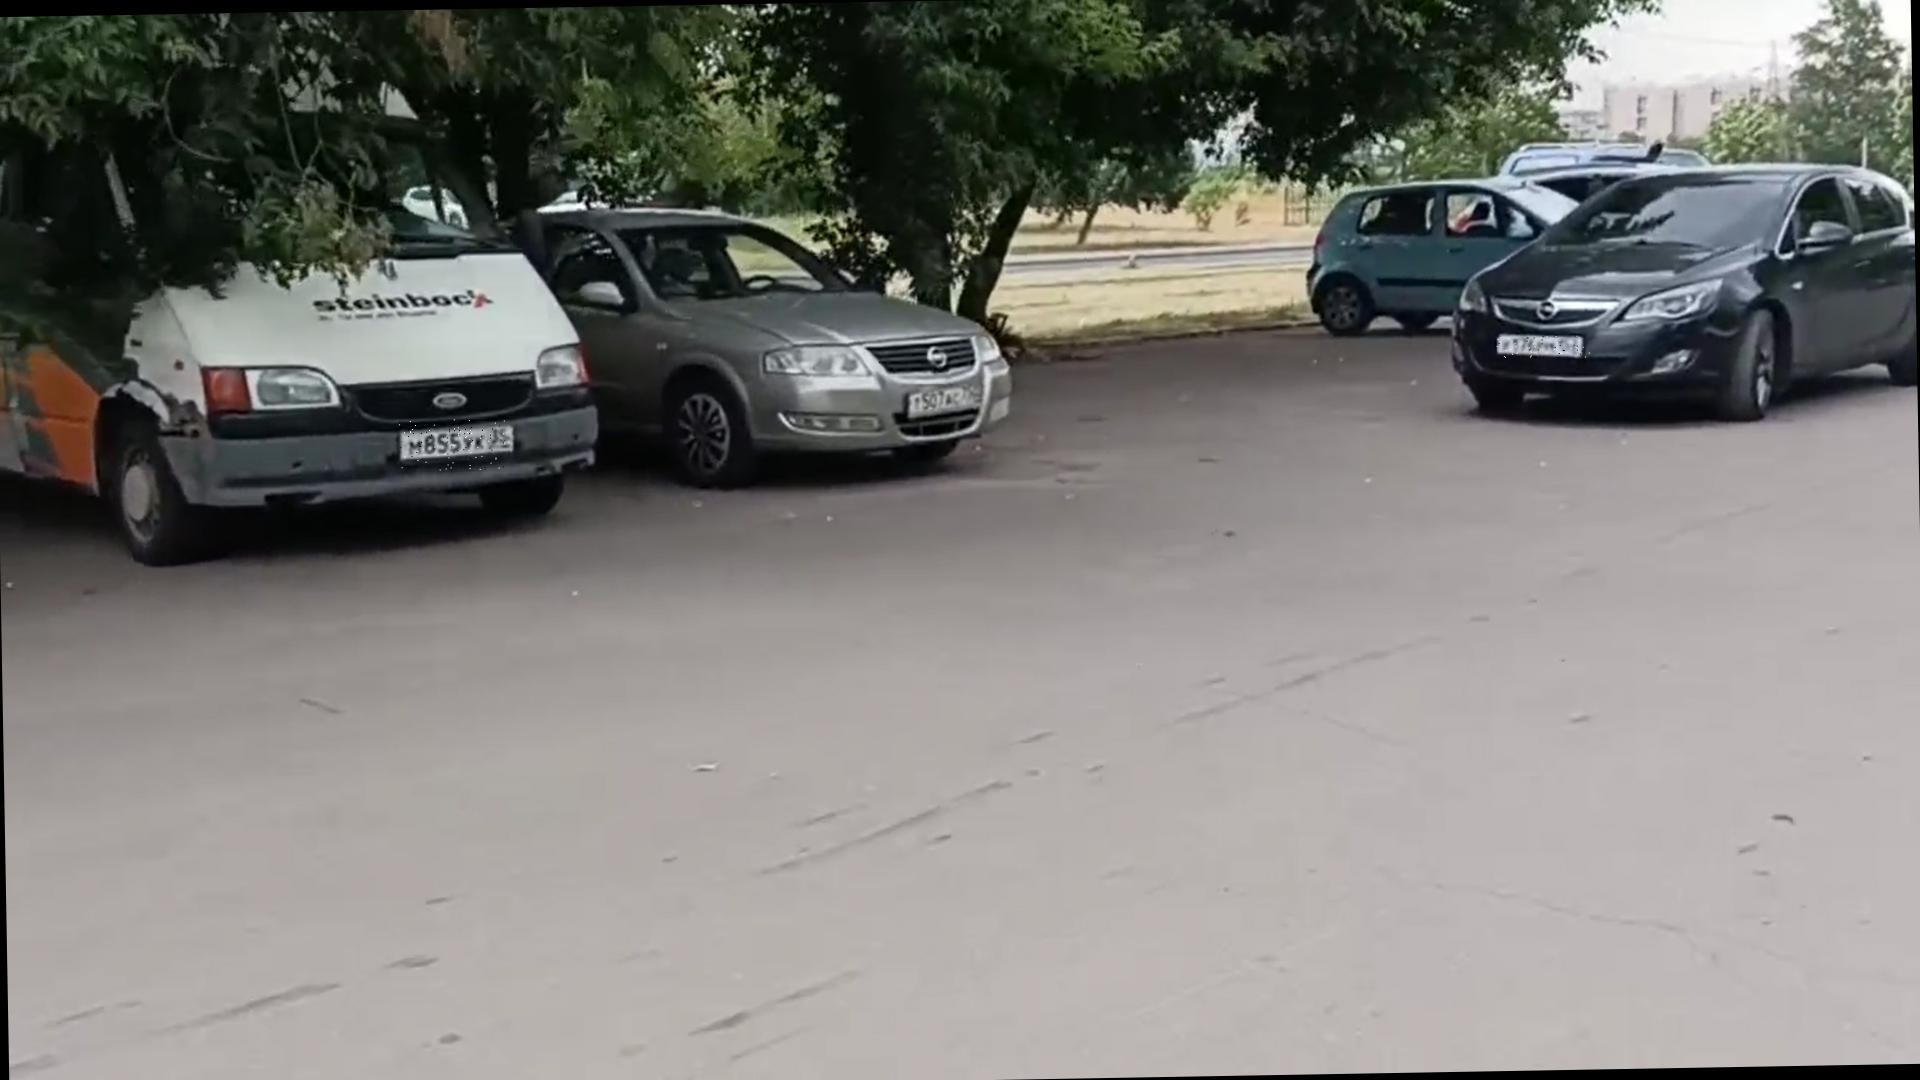plate: (400, 420, 512, 473), (906, 385, 975, 421), (1499, 337, 1592, 361)
